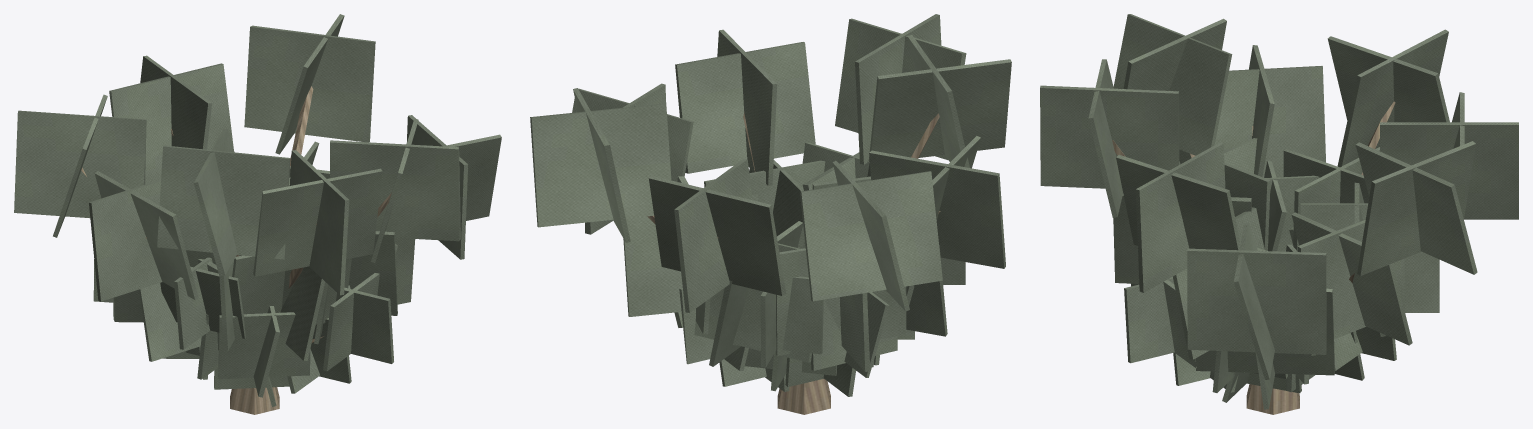
The model's file is bush_v4.glb.
3 renders of one model, left to right at view 1: azimuth 30°, elevation 25°; view 2: azimuth 150°, elevation 25°; view 3: azimuth 270°, elevation 25°, orthographic. The views are drawn at different scales.
Visible parts, largest first — view 1: Variant_bush_4; view 2: Variant_bush_4; view 3: Variant_bush_4.
Boxes of the visible parts, x1,y1,x2,y2 form: Variant_bush_4: (14, 14, 501, 414); Variant_bush_4: (530, 14, 1011, 414); Variant_bush_4: (1040, 14, 1518, 414).
Bounding box in the file's own units: 1.23 × 0.8719 × 1.17.
Materials: 2 (2 with a texture image).
